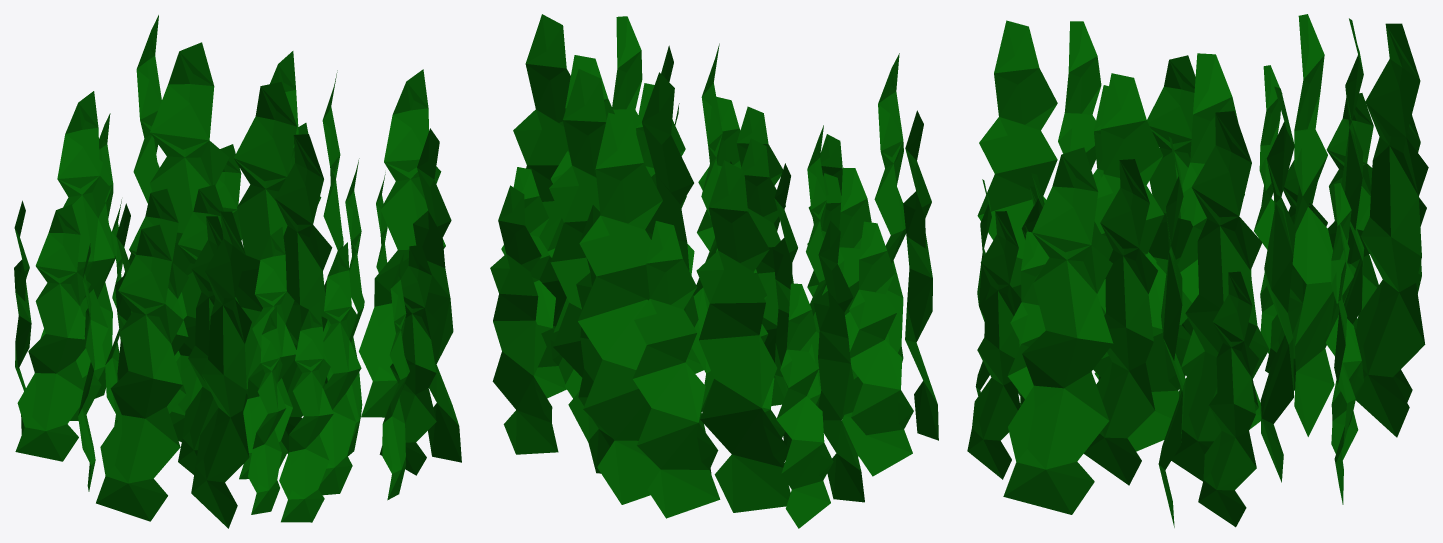
The model's file is seaweed.fbx.
3 renders of one model, left to right at view 1: azimuth 30°, elevation 25°; view 2: azimuth 150°, elevation 25°; view 3: azimuth 270°, elevation 25°, orthographic. The views are drawn at different scales.
Parts seen in each view (by area): view 1: Plane.002; view 2: Plane.002; view 3: Plane.002.
Boxes of the visible parts, box(x1,y1,x2,y2) form: Plane.002: box(14, 15, 461, 528); Plane.002: box(490, 14, 938, 528); Plane.002: box(967, 14, 1428, 527).
Bounding box in the file's own units: 97.69 × 91.92 × 90.11.
